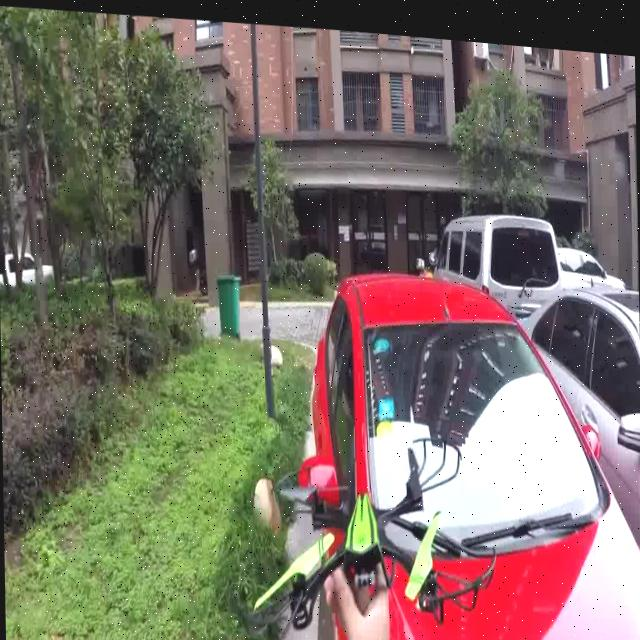drone: (253, 409, 494, 634)
